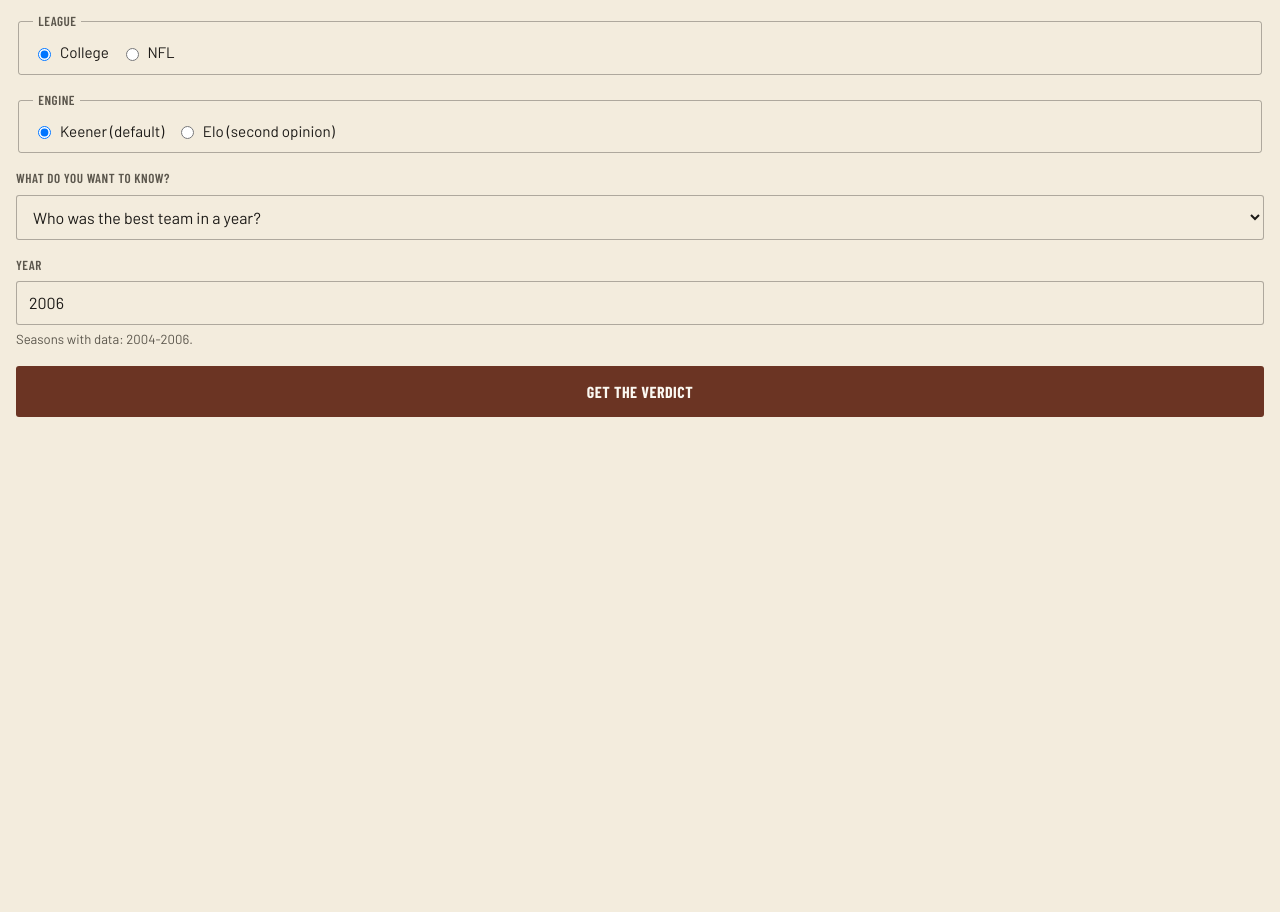
Test: QuestionForm › shows team A / team B fields when switching to "compare"
The width and height of the screenshot is (1280, 912).
Select "Was one team better than another?" in the dropdown labelled "What do you want to know?": x=640, y=217 [16,195,1264,240]
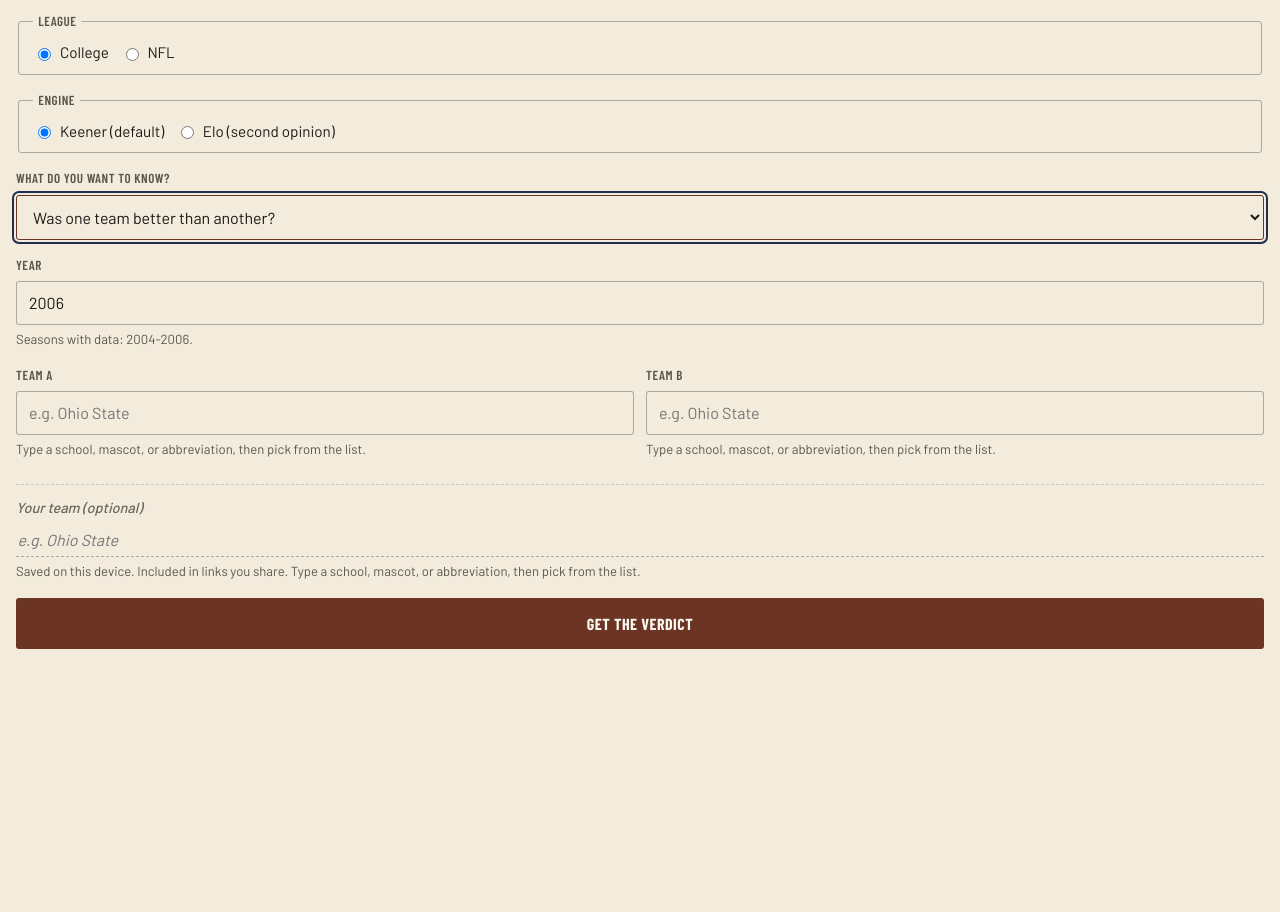
Now the dropdown labelled "Team A" is shown, box [16,391,634,435]
Now the dropdown labelled "Team B" is shown, box [646,391,1264,435]
